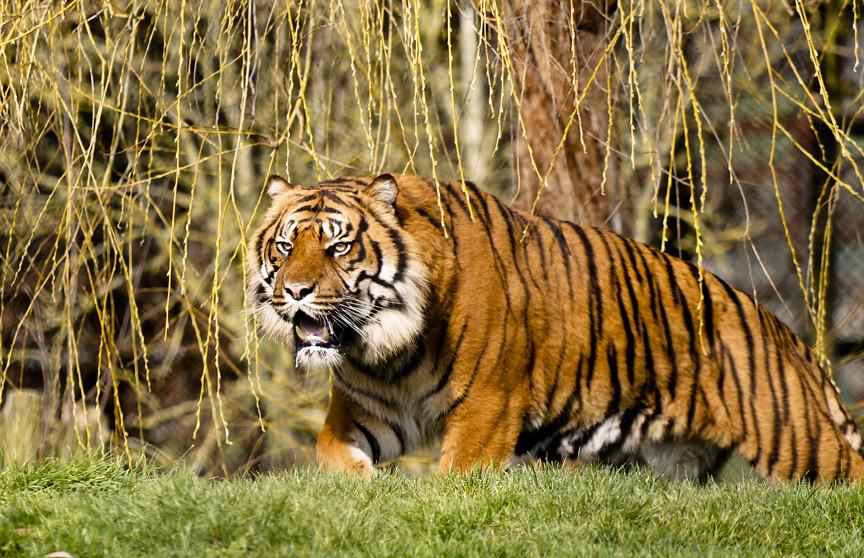tiger: (243, 171, 863, 491)
